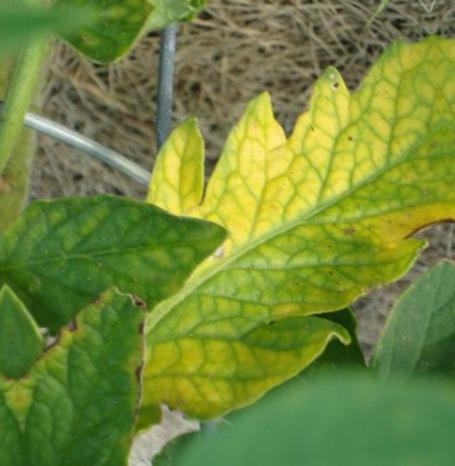Tomato mold leaf: (83, 0, 455, 433), (0, 172, 235, 333), (6, 277, 175, 466)
